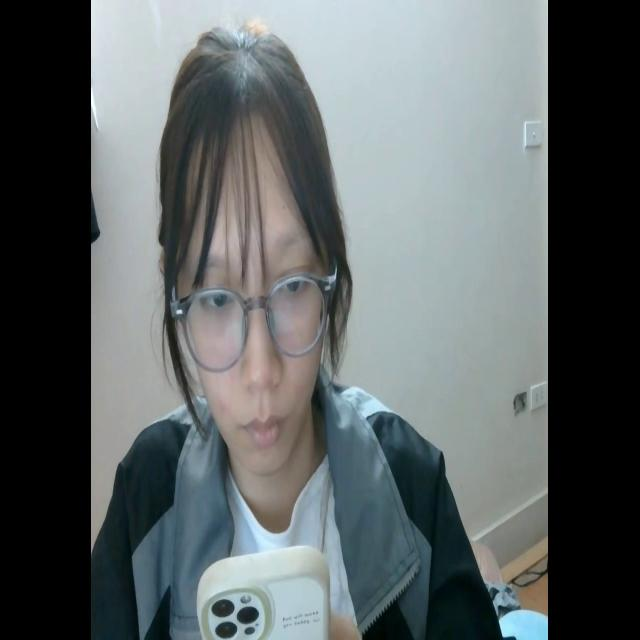phone: (195, 537, 332, 640)
student: (98, 28, 500, 640)
